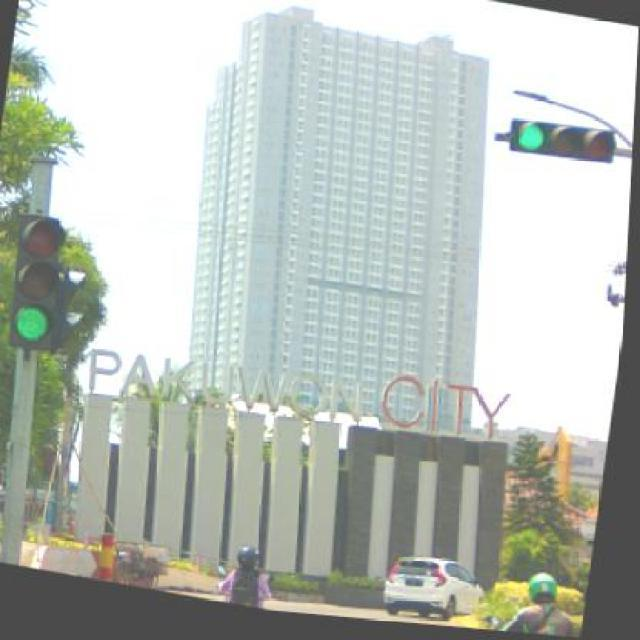green_light: (9, 213, 63, 347), (508, 118, 614, 160)
